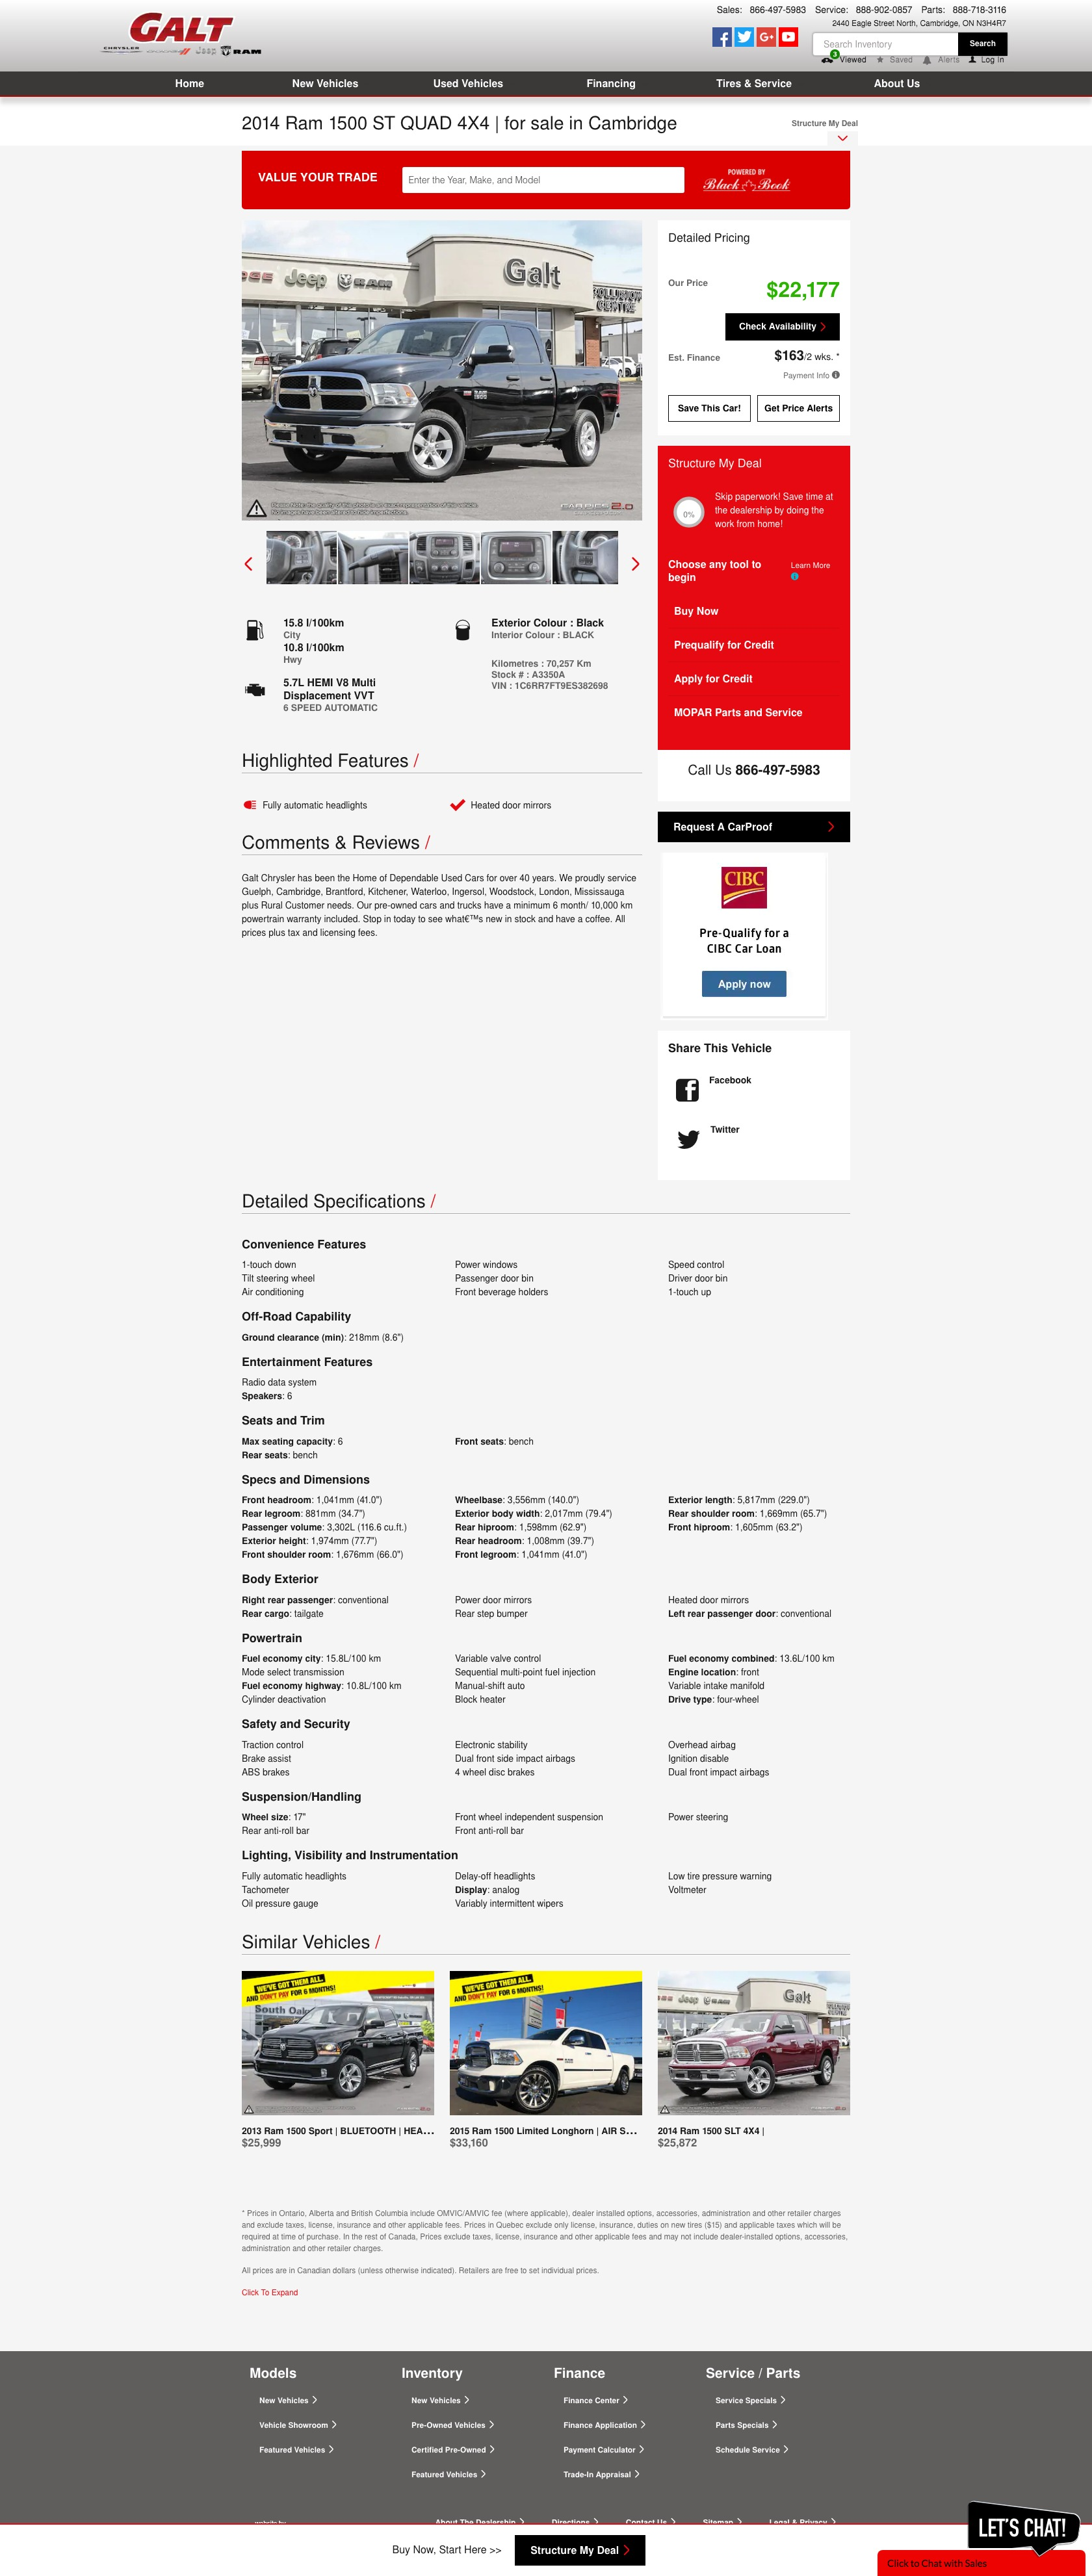car: (632, 557, 640, 572)
